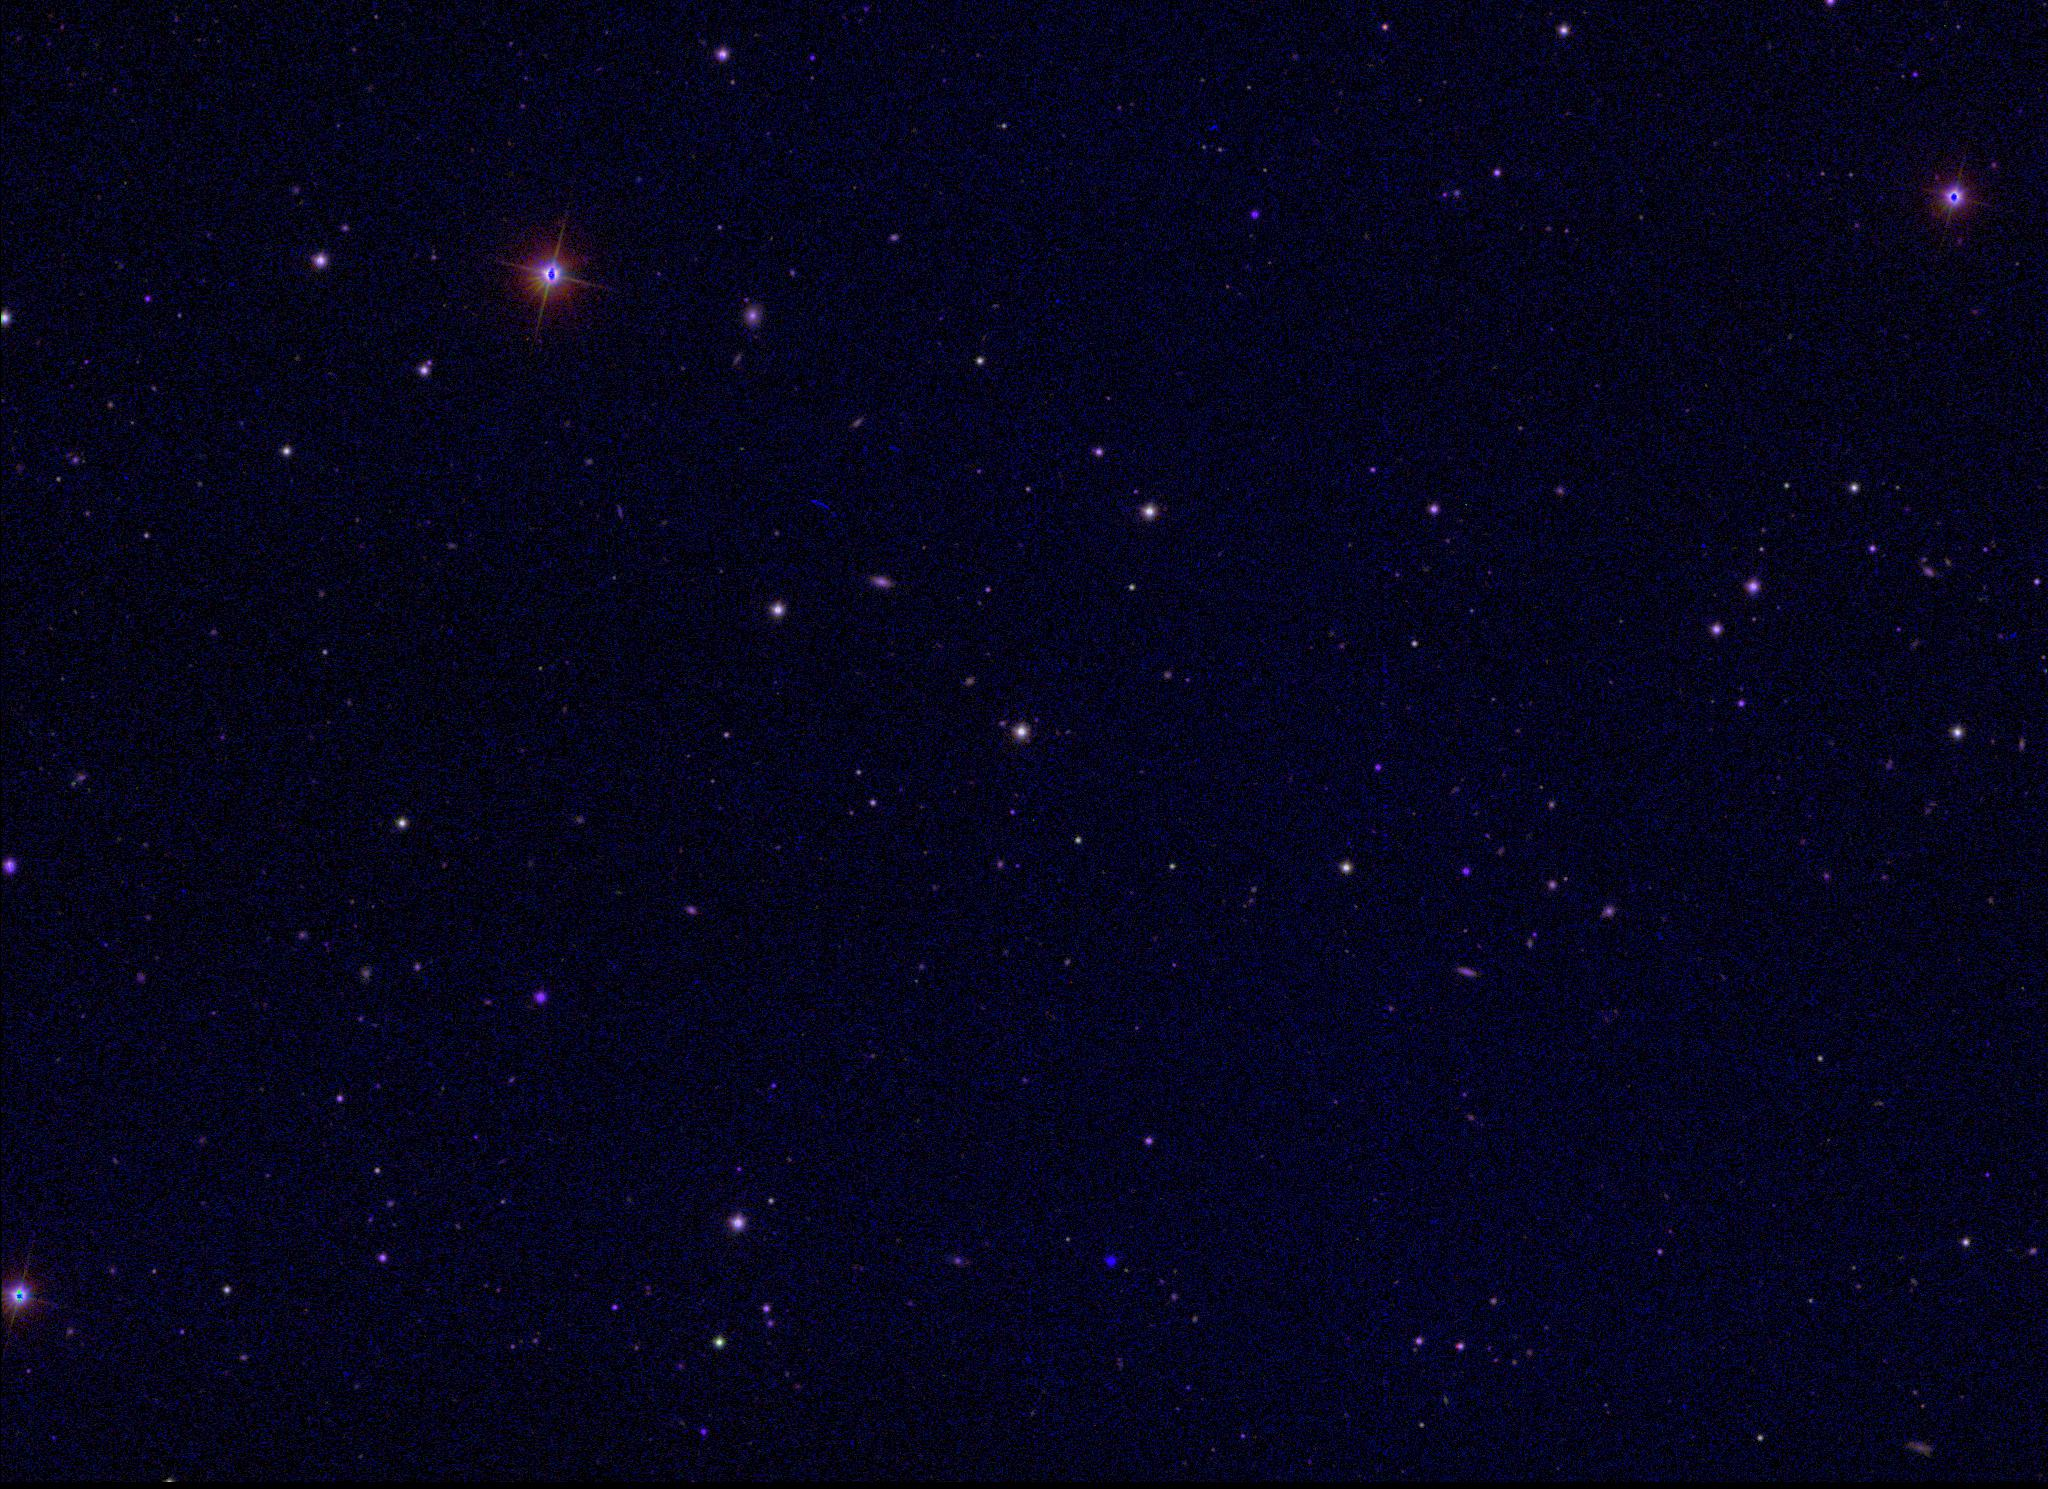L: (1104, 1252, 1118, 1266)
